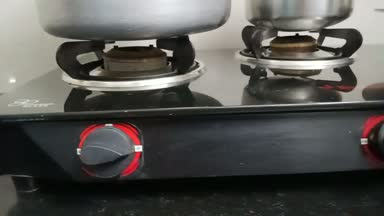flame_gas_off: (52, 37, 191, 181)
